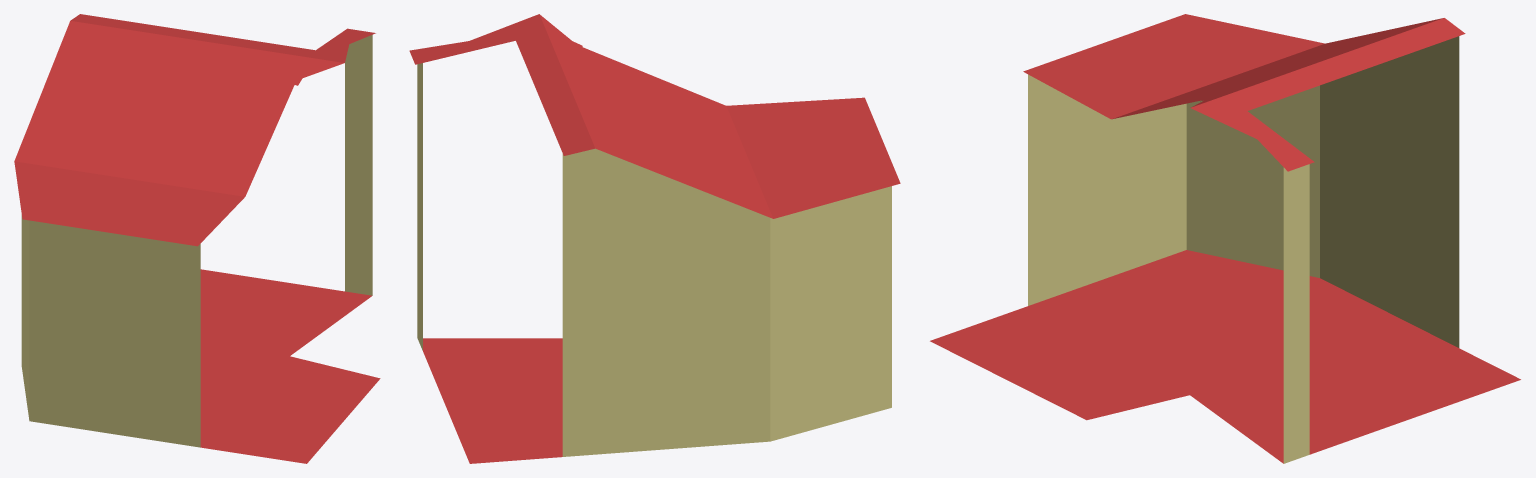
3 renders of one model, left to right at view 1: azimuth 30°, elevation 25°; view 2: azimuth 150°, elevation 25°; view 3: azimuth 270°, elevation 25°, orthographic. The views are drawn at different scales.
Bounding box in the file's own units: 15.92 × 18.01 × 10.66.
